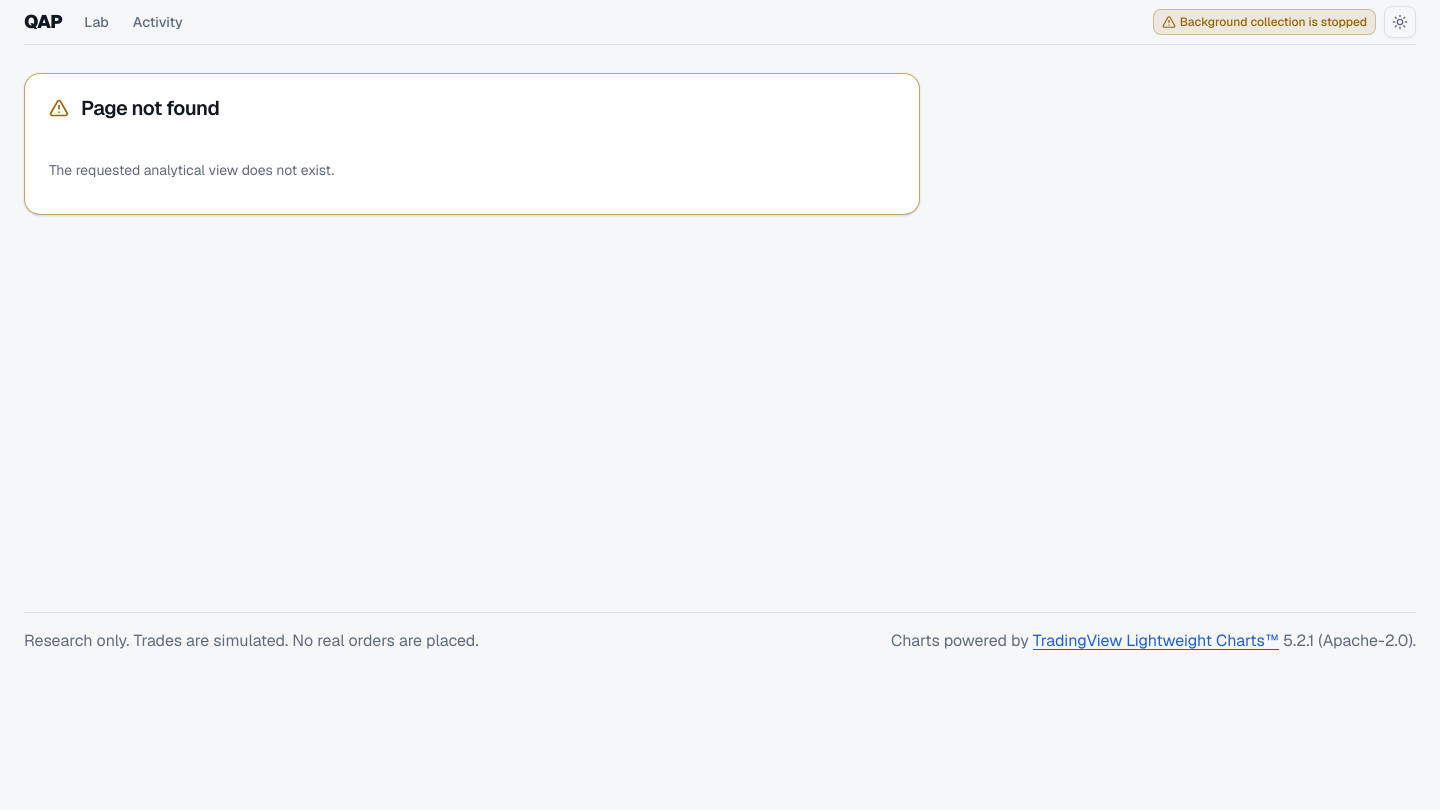
Test case: QAP route errors › keeps the header to one slim row with a single theme button
Expected: the heading "Page not found" is shown, [81,94,219,122]
Step 1. Click the button named "Switch to light theme" → (1400,22), box [1384,6,1416,38]
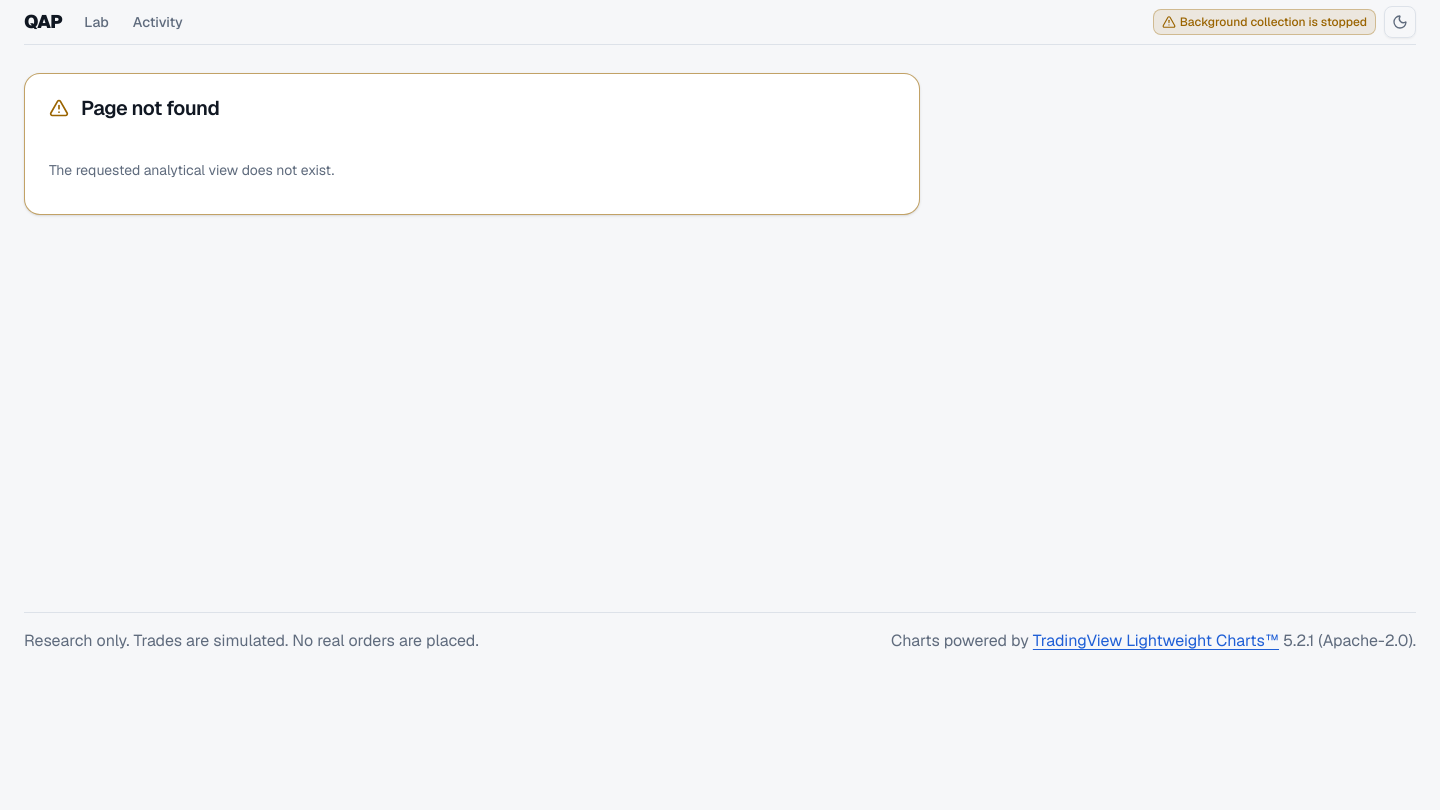
Expected: the button named "Switch to dark theme" is shown, [1384,6,1416,38]
